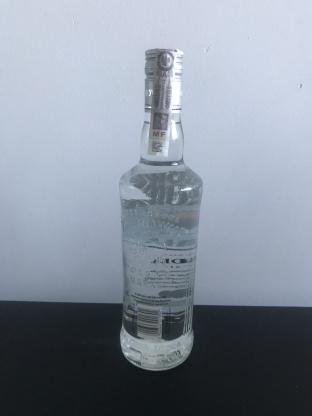nakretka: (142, 45, 186, 115)
